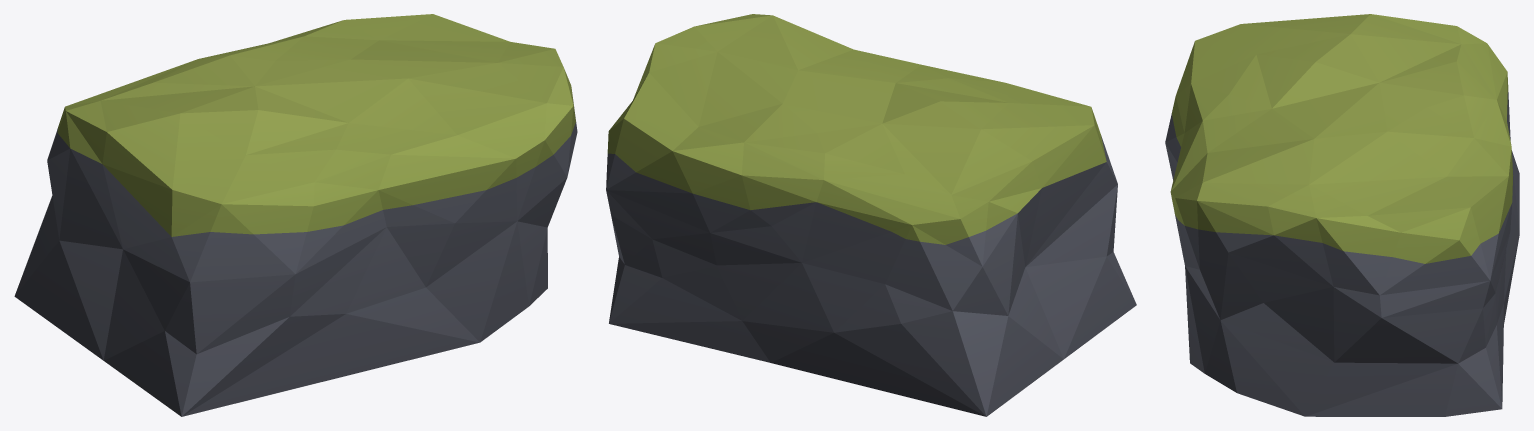
File: Rockwithgrass_01.fbx
3 renders of one model, left to right at view 1: azimuth 30°, elevation 25°; view 2: azimuth 150°, elevation 25°; view 3: azimuth 270°, elevation 25°, orthographic. The views are drawn at different scales.
Visible parts, largest first — view 1: Rockwithgrass_01; view 2: Rockwithgrass_01; view 3: Rockwithgrass_01.
Part boxes in pixels (box(x1,y1,x2,y2)): Rockwithgrass_01: box(14, 14, 577, 416); Rockwithgrass_01: box(606, 14, 1136, 416); Rockwithgrass_01: box(1165, 14, 1519, 416).
Bounding box in the file's own units: 7.53 × 3.66 × 5.24.
